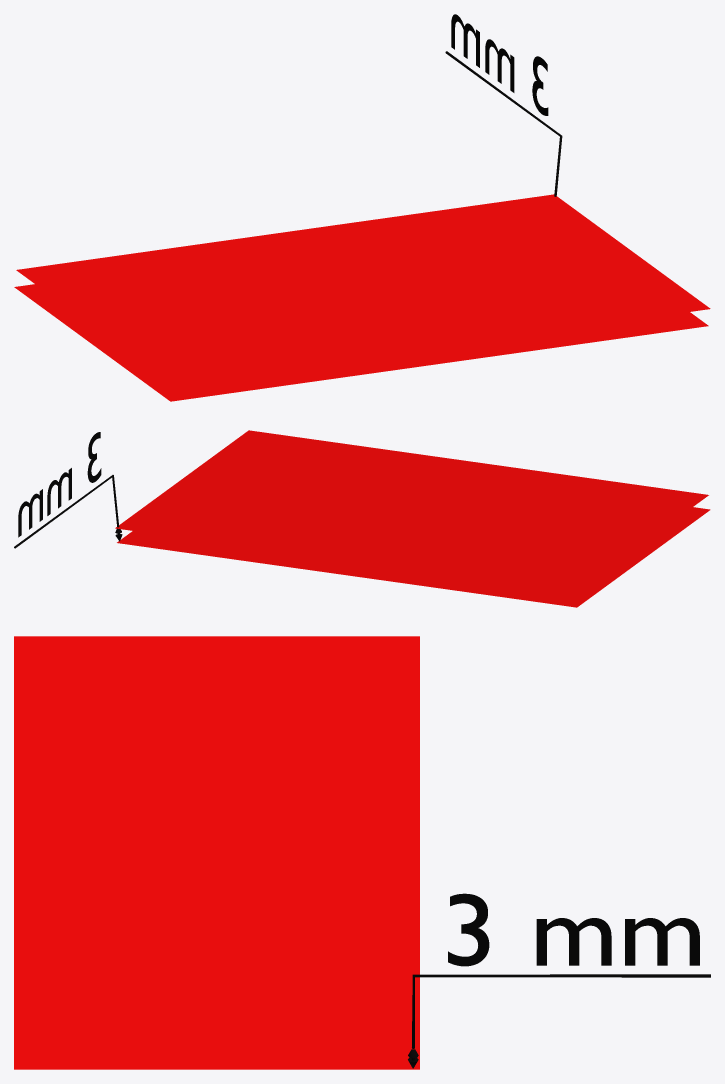
3 views of the same model, one above another, from view 1: azimuth 30°, elevation 25°; view 2: azimuth 150°, elevation 25°; view 3: azimuth 270°, elevation 25° (orthographic). The views are drawn at different scales.
Visible parts, largest first — view 1: ZT, Text.001; view 2: ZT, Text.001, NurbsPath.001; view 3: ZT, Text.001, NurbsPath.001.
Part boxes in pixels (box(x1,y1,x2,y2)): ZT: box(14, 194, 710, 401); Text.001: box(451, 14, 548, 115); ZT: box(115, 430, 710, 607); Text.001: box(18, 432, 101, 537); NurbsPath.001: box(14, 475, 119, 548); ZT: box(14, 636, 419, 1069); Text.001: box(448, 893, 699, 966); NurbsPath.001: box(411, 974, 710, 1060).
Bounding box in the file's own units: 4.95 × 1.21 × 4.22.
